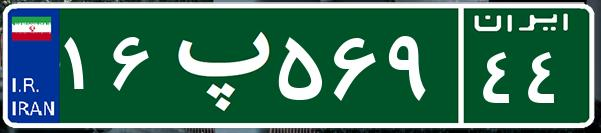1: (57, 26, 110, 107)
4: (475, 38, 525, 113), (525, 38, 570, 115)
5: (273, 28, 330, 110)
6: (330, 28, 385, 110), (110, 28, 158, 105)
9: (385, 28, 445, 110)
پ: (158, 15, 273, 115)
